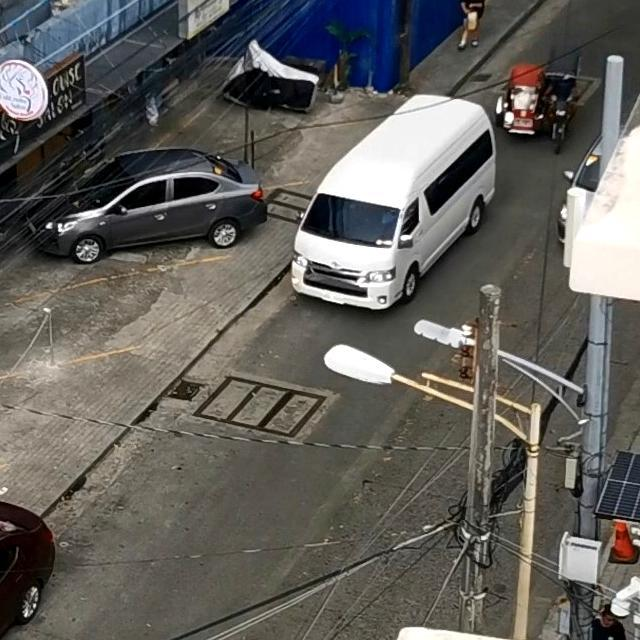Car: (292, 94, 486, 304), (31, 147, 259, 262)
